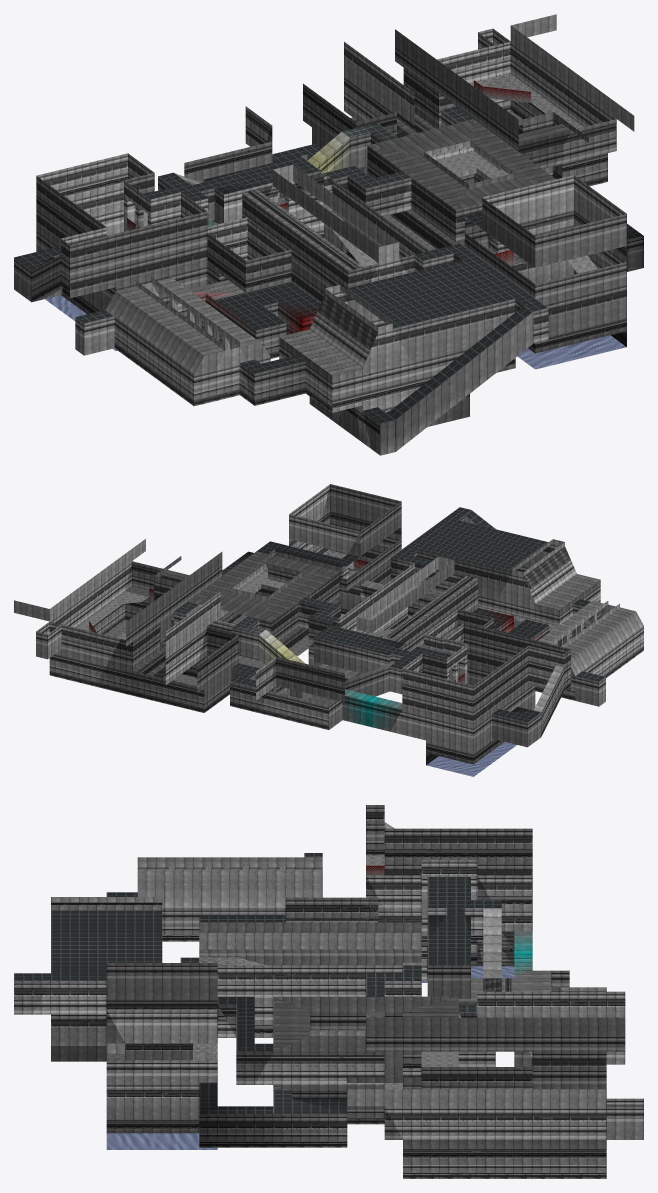
File: complex.glb
3 renders of one model, top to bottom at view 1: azimuth 30°, elevation 25°; view 2: azimuth 150°, elevation 25°; view 3: azimuth 270°, elevation 25°, orthographic. The views are drawn at different scales.
Parts seen in each view (by area): view 1: primary_Room2A, primary_Room1D, primary_Room22, primary_Room01, primary_Room02, primary_Room29, primary_Room21, primary_Room0F, primary_Room26, primary_Room1F, primary_Room11, primary_Room12 (+18 smaller); view 2: primary_Room22, primary_Room02, primary_Room2A, primary_Room1D, primary_Room1F, primary_Room01, primary_Room21, primary_Room29, primary_Room09, primary_Room14, primary_Room12, primary_Room0F (+15 smaller); view 3: primary_Room22, primary_Room1D, primary_Room01, primary_Room2A, primary_Room21, primary_Room29, primary_Room02, primary_Room1F, primary_Room18, primary_Room14, primary_Room16, primary_Room12 (+13 smaller).
Boxes of the visible parts, x1,y1,x2,y2 form: primary_Room2A: (279, 256, 548, 412); primary_Room1D: (474, 175, 626, 369); primary_Room22: (395, 25, 634, 186); primary_Room01: (242, 165, 429, 330); primary_Room02: (36, 161, 176, 350); primary_Room29: (106, 277, 270, 406); primary_Room21: (367, 119, 555, 241); primary_Room0F: (182, 217, 320, 338); primary_Room26: (363, 305, 533, 455); primary_Room1F: (303, 42, 435, 174); primary_Room11: (150, 192, 207, 289); primary_Room12: (97, 153, 154, 235); primary_Room22: (49, 539, 222, 695); primary_Room02: (426, 629, 570, 776); primary_Room2A: (405, 507, 600, 631); primary_Room1D: (289, 484, 401, 614); primary_Room1F: (133, 591, 259, 712); primary_Room01: (339, 556, 512, 675); primary_Room21: (188, 551, 339, 640); primary_Room29: (535, 600, 643, 700); primary_Room09: (256, 657, 344, 729); primary_Room14: (314, 625, 405, 673); primary_Room12: (402, 653, 446, 740); primary_Room0F: (424, 609, 549, 652); primary_Room22: (347, 1017, 625, 1178); primary_Room1D: (106, 963, 235, 1149); primary_Room01: (199, 922, 421, 1037); primary_Room2A: (14, 897, 162, 1045); primary_Room21: (255, 996, 461, 1089); primary_Room29: (137, 857, 322, 941); primary_Room02: (366, 805, 532, 982); primary_Room1F: (477, 991, 625, 1066); primary_Room18: (273, 1090, 347, 1147); primary_Room14: (421, 915, 470, 998); primary_Room16: (199, 1082, 273, 1147); primary_Room12: (477, 875, 532, 964).
Size of the model in its own units: 54.98 by 11.82 by 46.35.
Materials: 15 (14 with a texture image).
